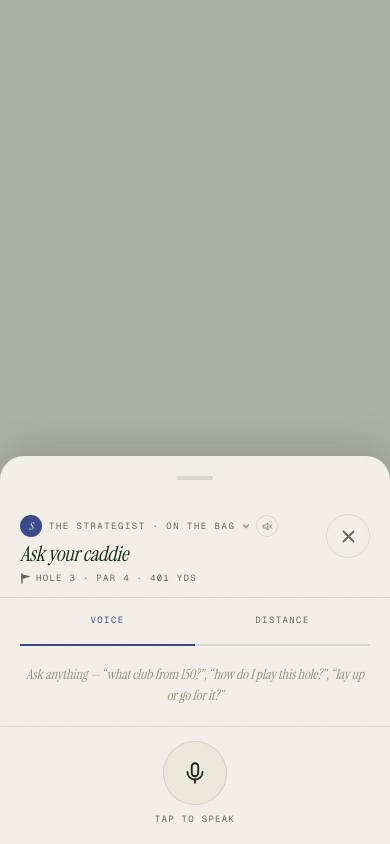
Scenario: CaddieSheet — streaming ladder (specs/voice-streaming-replies-plan.md) › does NOT mount the follow-up/clear CTAs or re-arm the mic mid-stream — only once the reply is complete
The image size is (390, 844).
What coordinates should you click on to do the following:
click the button named "Start recording"
I would click on:
 (195, 772)
Its box is [163,740,227,804].
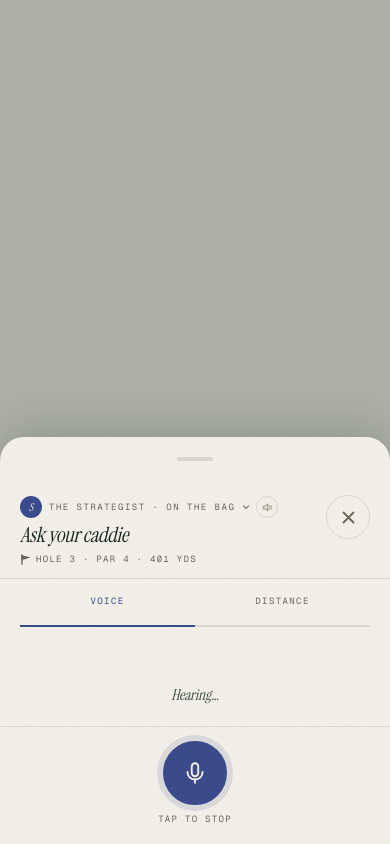
What coordinates should you click on to do the following:
click the button named "Stop recording"
I would click on:
 (195, 772)
Its box is [163,740,227,804].
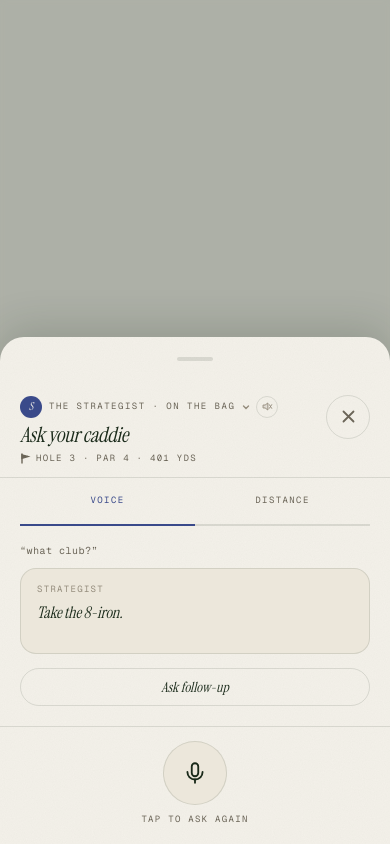
expect the text "Take the 8-iron." is shown: met, box [37,602,122,623]
expect the button "Ask follow-up" is shown: met, box [20,668,370,706]
expect the button named "Start recording" is shown: met, box [163,740,227,804]
